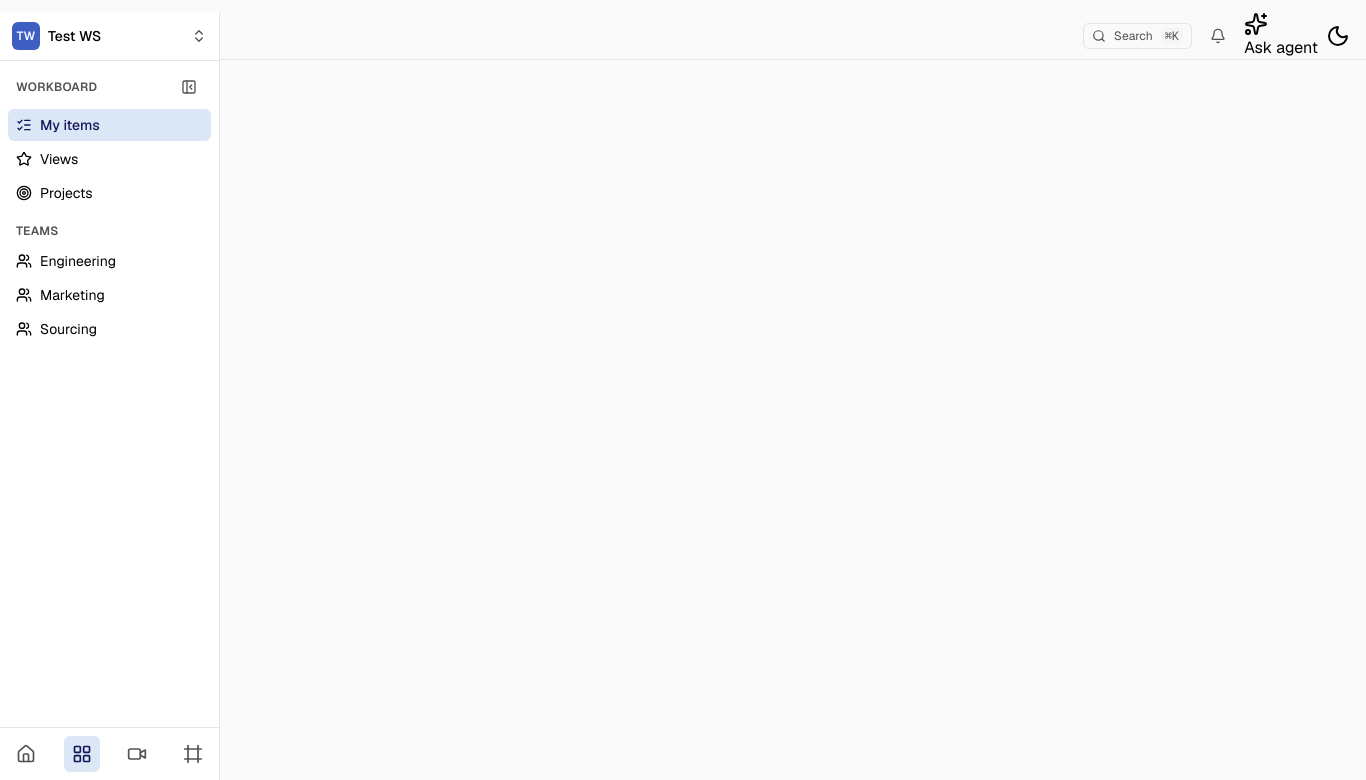
Test: ShellLayout › minimizes the rail when the sidebar toggle is clicked
Expected: the text "My items" is shown, [40,115,100,135]
What coordinates should you click on to do the following:
click the button named "Collapse sidebar"
I would click on:
 (189, 87)
Its box is [175,73,203,101].
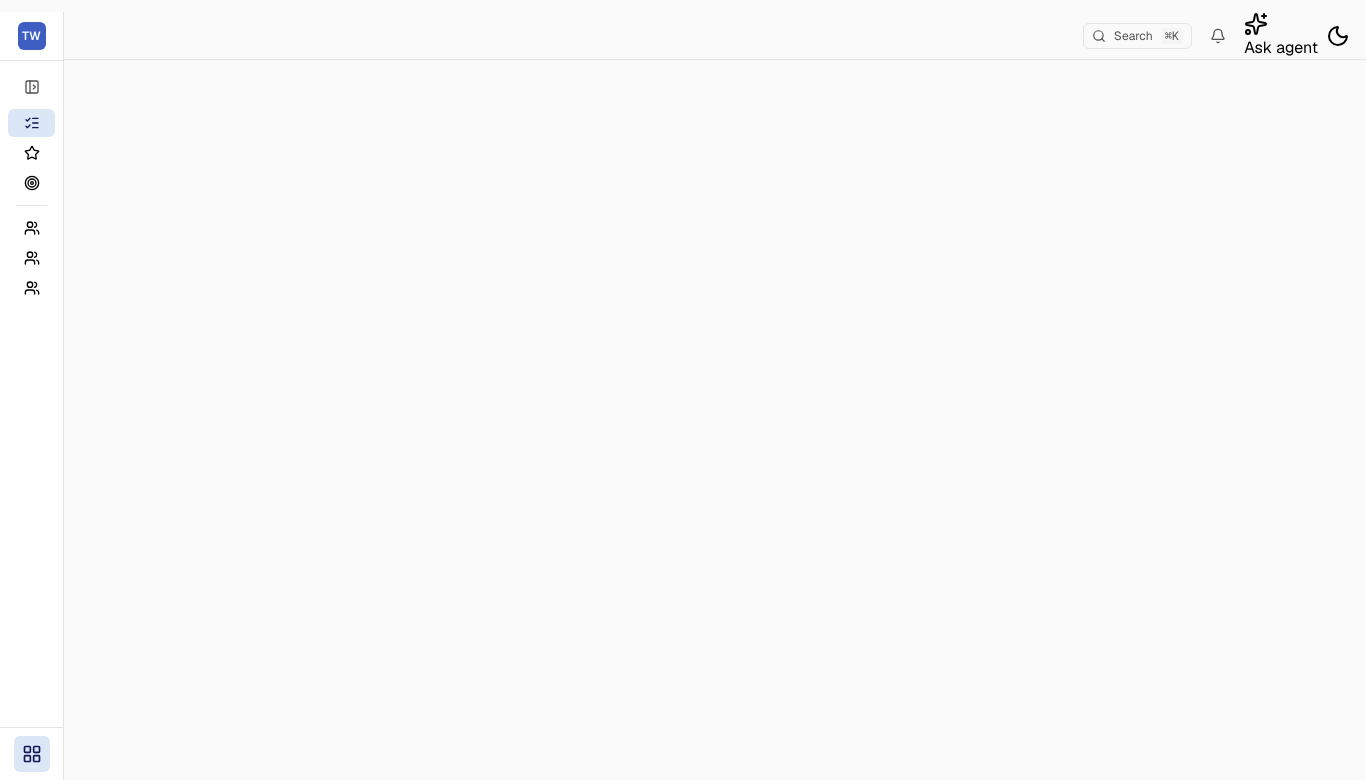
Expected: the link named "My items" is shown, [8,109,55,137]
Now the text "My items" is gone
Now the button named "Expand sidebar" is shown, box [18,73,46,101]
